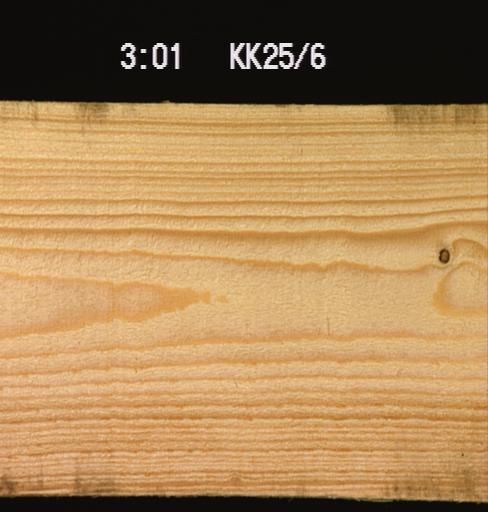dry_knot: (434, 243, 452, 266)
